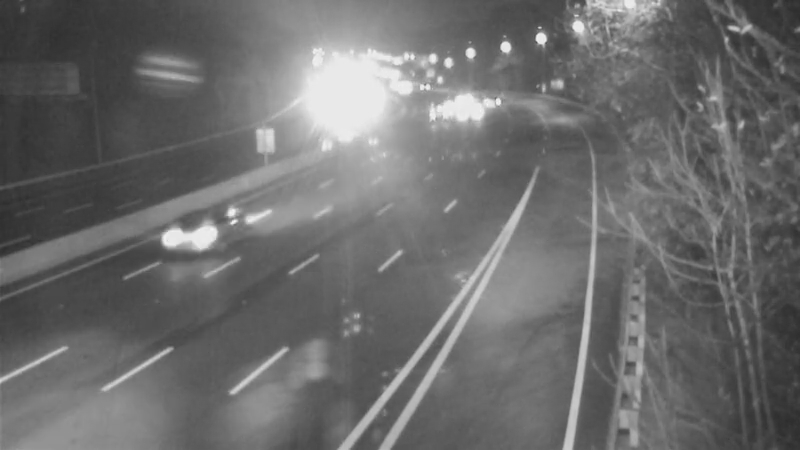vehicle: (165, 192, 245, 272), (408, 84, 458, 134), (442, 87, 492, 137)
